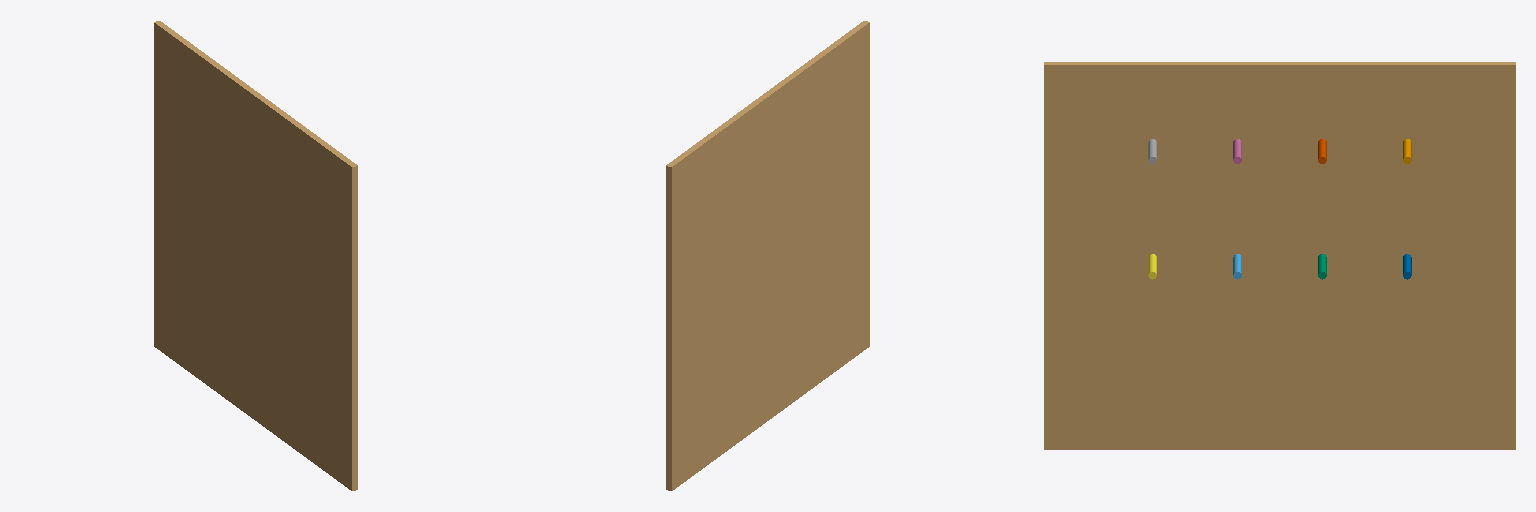
URDF robot description (pegboard):
<robot name="pegboard">

  <material name="Wood">
    <color rgba="0.827 0.675 0.463 1.0"/>
  </material>
  <material name="LightWood">
    <color rgba="0.992, 0.871, 0.682, 1.0"/>
  </material>
  <material name="Metal">
    <color rgba="0.718, 0.753, 0.749, 1.0"/>
  </material>


  <link name="backboard">
    <inertial>
      <mass value="20.0" />
      <origin xyz="0 0 -1.0" /> 
      <inertia  ixx="2" ixy="0.0"  ixz="0.0"  iyy="2"  iyz="0.0"  izz="2" />
    </inertial>
    <visual>
      <origin xyz="0 0 0" rpy="0 0 0" />
      <geometry>
        <box size="0.02 1.11 1.0"/>
      </geometry>
      <material name="Wood"/>
    </visual>
    <collision>
      <origin xyz="0 0 0" rpy="0 0 0" />
      <geometry>
        <box size="0.02 1.11 1.0"/>
      </geometry>
    </collision>
  </link>

  <link name="peg1">
    <inertial>
      <mass value="0.1" />
      <origin xyz="0 0 0.0" />
      <inertia  ixx="0.01" ixy="0.0"  ixz="0.0"  iyy="0.01"  iyz="0.0"  izz="0.01" />
    </inertial>
    <visual>
      <origin xyz="0.06 0 0" rpy="0 1.5706806282723 0" />
      <geometry>
        <cylinder radius="0.01" length="0.10"/>
      </geometry>
      <material name="Metal"/>
    </visual>
    <collision>
      <origin xyz="0.06 0 0" rpy="0 1.5706806282723 0" />
      <geometry>
        <cylinder radius="0.01" length="0.10"/>
      </geometry>
    </collision>
  </link>
  <link name="peg2">
    <inertial>
      <mass value="0.1" />
      <origin xyz="0 0 0.0" />
      <inertia  ixx="0.01" ixy="0.0"  ixz="0.0"  iyy="0.01"  iyz="0.0"  izz="0.01" />
    </inertial>
    <visual>
      <origin xyz="0.06 0 0" rpy="0 1.5706806282723 0" />
      <geometry>
        <cylinder radius="0.01" length="0.10"/>
      </geometry>
      <material name="Metal"/>
    </visual>
    <collision>
      <origin xyz="0.06 0 0" rpy="0 1.5706806282723 0" />
      <geometry>
        <cylinder radius="0.01" length="0.10"/>
      </geometry>
    </collision>
  </link>
  <link name="peg3">
    <inertial>
      <mass value="0.1" />
      <origin xyz="0 0 0.0" />
      <inertia  ixx="0.01" ixy="0.0"  ixz="0.0"  iyy="0.01"  iyz="0.0"  izz="0.01" />
    </inertial>
    <visual>
      <origin xyz="0.06 0 0" rpy="0 1.5706806282723 0" />
      <geometry>
        <cylinder radius="0.01" length="0.10"/>
      </geometry>
      <material name="Metal"/>
    </visual>
    <collision>
      <origin xyz="0.06 0 0" rpy="0 1.5706806282723 0" />
      <geometry>
        <cylinder radius="0.01" length="0.10"/>
      </geometry>
    </collision>
  </link>
  <link name="peg4">
    <inertial>
      <mass value="0.1" />
      <origin xyz="0 0 0.0" />
      <inertia  ixx="0.01" ixy="0.0"  ixz="0.0"  iyy="0.01"  iyz="0.0"  izz="0.01" />
    </inertial>
    <visual>
      <origin xyz="0.06 0 0" rpy="0 1.5706806282723 0" />
      <geometry>
        <cylinder radius="0.01" length="0.10"/>
      </geometry>
      <material name="Metal"/>
    </visual>
    <collision>
      <origin xyz="0.06 0 0" rpy="0 1.5706806282723 0" />
      <geometry>
        <cylinder radius="0.01" length="0.10"/>
      </geometry>
    </collision>
  </link>
  <link name="peg5">
    <inertial>
      <mass value="0.1" />
      <origin xyz="0 0 0.0" />
      <inertia  ixx="0.01" ixy="0.0"  ixz="0.0"  iyy="0.01"  iyz="0.0"  izz="0.01" />
    </inertial>
    <visual>
      <origin xyz="0.06 0 0" rpy="0 1.5706806282723 0" />
      <geometry>
        <cylinder radius="0.01" length="0.10"/>
      </geometry>
      <material name="Metal"/>
    </visual>
    <collision>
      <origin xyz="0.06 0 0" rpy="0 1.5706806282723 0" />
      <geometry>
        <cylinder radius="0.01" length="0.10"/>
      </geometry>
    </collision>
  </link>
  <link name="peg6">
    <inertial>
      <mass value="0.1" />
      <origin xyz="0 0 0.0" />
      <inertia  ixx="0.01" ixy="0.0"  ixz="0.0"  iyy="0.01"  iyz="0.0"  izz="0.01" />
    </inertial>
    <visual>
      <origin xyz="0.06 0 0" rpy="0 1.5706806282723 0" />
      <geometry>
        <cylinder radius="0.01" length="0.10"/>
      </geometry>
      <material name="Metal"/>
    </visual>
    <collision>
      <origin xyz="0.06 0 0" rpy="0 1.5706806282723 0" />
      <geometry>
        <cylinder radius="0.01" length="0.10"/>
      </geometry>
    </collision>
  </link>
  <link name="peg7">
    <inertial>
      <mass value="0.1" />
      <origin xyz="0 0 0.0" />
      <inertia  ixx="0.01" ixy="0.0"  ixz="0.0"  iyy="0.01"  iyz="0.0"  izz="0.01" />
    </inertial>
    <visual>
      <origin xyz="0.06 0 0" rpy="0 1.5706806282723 0" />
      <geometry>
        <cylinder radius="0.01" length="0.10"/>
      </geometry>
      <material name="Metal"/>
    </visual>
    <collision>
      <origin xyz="0.06 0 0" rpy="0 1.5706806282723 0" />
      <geometry>
        <cylinder radius="0.01" length="0.10"/>
      </geometry>
    </collision>
  </link>
  <link name="peg8">
    <inertial>
      <mass value="0.1" />
      <origin xyz="0 0 0.0" />
      <inertia  ixx="0.01" ixy="0.0"  ixz="0.0"  iyy="0.01"  iyz="0.0"  izz="0.01" />
    </inertial>
    <visual>
      <origin xyz="0.06 0 0" rpy="0 1.5706806282723 0" />
      <geometry>
        <cylinder radius="0.01" length="0.10"/>
      </geometry>
      <material name="Metal"/>
    </visual>
    <collision>
      <origin xyz="0.06 0 0" rpy="0 1.5706806282723 0" />
      <geometry>
        <cylinder radius="0.01" length="0.10"/>
      </geometry>
    </collision>
  </link>

  <joint name="peg_on_board1" type="fixed">
    <parent link="backboard"/>
    <child link="peg1"/>
    <origin xyz="0 -0.1 0"/>
  </joint>
  <joint name="peg_on_board2" type="fixed">
    <parent link="backboard"/>
    <child link="peg2"/>
    <origin xyz="0 0.1 0"/>
  </joint>
  <joint name="peg_on_board3" type="fixed">
    <parent link="backboard"/>
    <child link="peg3"/>
    <origin xyz="0 -0.3 0"/>
  </joint>
  <joint name="peg_on_board4" type="fixed">
    <parent link="backboard"/>
    <child link="peg4"/>
    <origin xyz="0 0.3 0"/>
  </joint>
  <joint name="peg_on_board5" type="fixed">
    <parent link="backboard"/>
    <child link="peg5"/>
    <origin xyz="0 0.1 0.3"/>
  </joint>
  <joint name="peg_on_board6" type="fixed">
    <parent link="backboard"/>
    <child link="peg6"/>
    <origin xyz="0 -0.1 0.3"/>
  </joint>
  <joint name="peg_on_board7" type="fixed">
    <parent link="backboard"/>
    <child link="peg7"/>
    <origin xyz="0 -0.3 0.3"/>
  </joint>
  <joint name="peg_on_board8" type="fixed">
    <parent link="backboard"/>
    <child link="peg8"/>
    <origin xyz="0 0.3 0.3"/>
  </joint>

</robot>

--- Render facts (derived) ---
3 views of the same robot in one strip: view 1: azimuth 30°, elevation 25°; view 2: azimuth 150°, elevation 25°; view 3: azimuth 270°, elevation 25° (orthographic).
Model pegboard with 9 links and 8 joints (8 fixed), rooted at backboard, posed every joint at zero.
Visible links, largest first — view 1: backboard; view 2: backboard; view 3: backboard.
Link boxes in pixels (x1=…): backboard: x1=154, y1=21, x2=357, y2=490; backboard: x1=666, y1=21, x2=869, y2=490; backboard: x1=1044, y1=62, x2=1515, y2=449.
Size in the robot's own frame: 0.12 by 1.11 by 1 metres.
Geometry: primitives only (box / cylinder / sphere), no mesh files.
